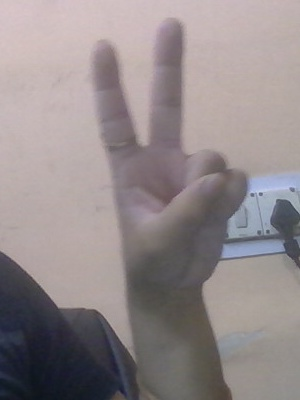V: (87, 18, 251, 311)
